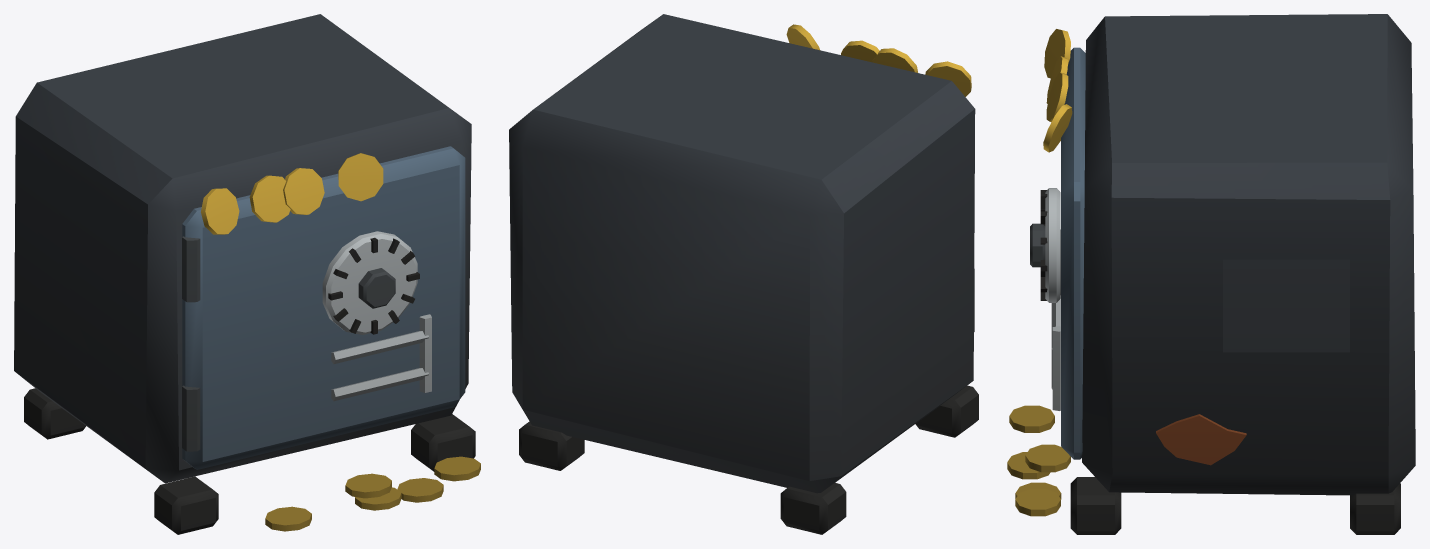
The model's file is 196_coffre_recettes.fbx.
3 views of the same model, side by side, from view 1: azimuth 30°, elevation 25°; view 2: azimuth 150°, elevation 25°; view 3: azimuth 270°, elevation 25° (orthographic). The views are drawn at different scales.
Parts seen in each view (by area): view 1: Coffre, Porte; view 2: Coffre; view 3: Coffre, Porte.
Part boxes in pixels (x1=…): Coffre: x1=14, y1=14, x2=480, y2=534; Porte: x1=182, y1=146, x2=465, y2=469; Coffre: x1=509, y1=14, x2=978, y2=534; Coffre: x1=1007, y1=14, x2=1415, y2=534; Porte: x1=1030, y1=47, x2=1085, y2=459.
Bounding box in the file's own units: 0.84 × 0.84 × 0.84.
Materials: 1 (1 with a texture image).
